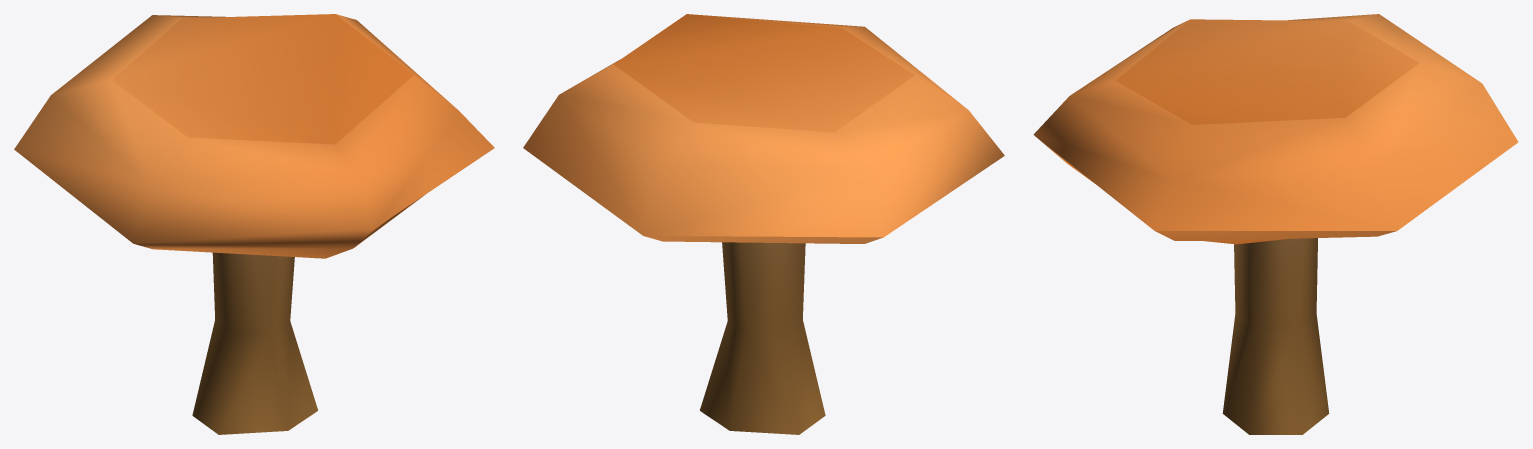
Rendered from Mushroom_Orange.gltf.
3 views of the same model, side by side, from view 1: azimuth 30°, elevation 25°; view 2: azimuth 150°, elevation 25°; view 3: azimuth 270°, elevation 25° (orthographic).
Parts seen in each view (by area): view 1: Mushroom_Orange; view 2: Mushroom_Orange; view 3: Mushroom_Orange.
Boxes of the visible parts, box(x1,y1,x2,y2) form: Mushroom_Orange: box(14, 14, 494, 434); Mushroom_Orange: box(523, 14, 1004, 434); Mushroom_Orange: box(1033, 14, 1518, 434).
Size of the model in its own units: 0.2188 by 0.2 by 0.2519.
Materials: 1 (1 with a texture image).
